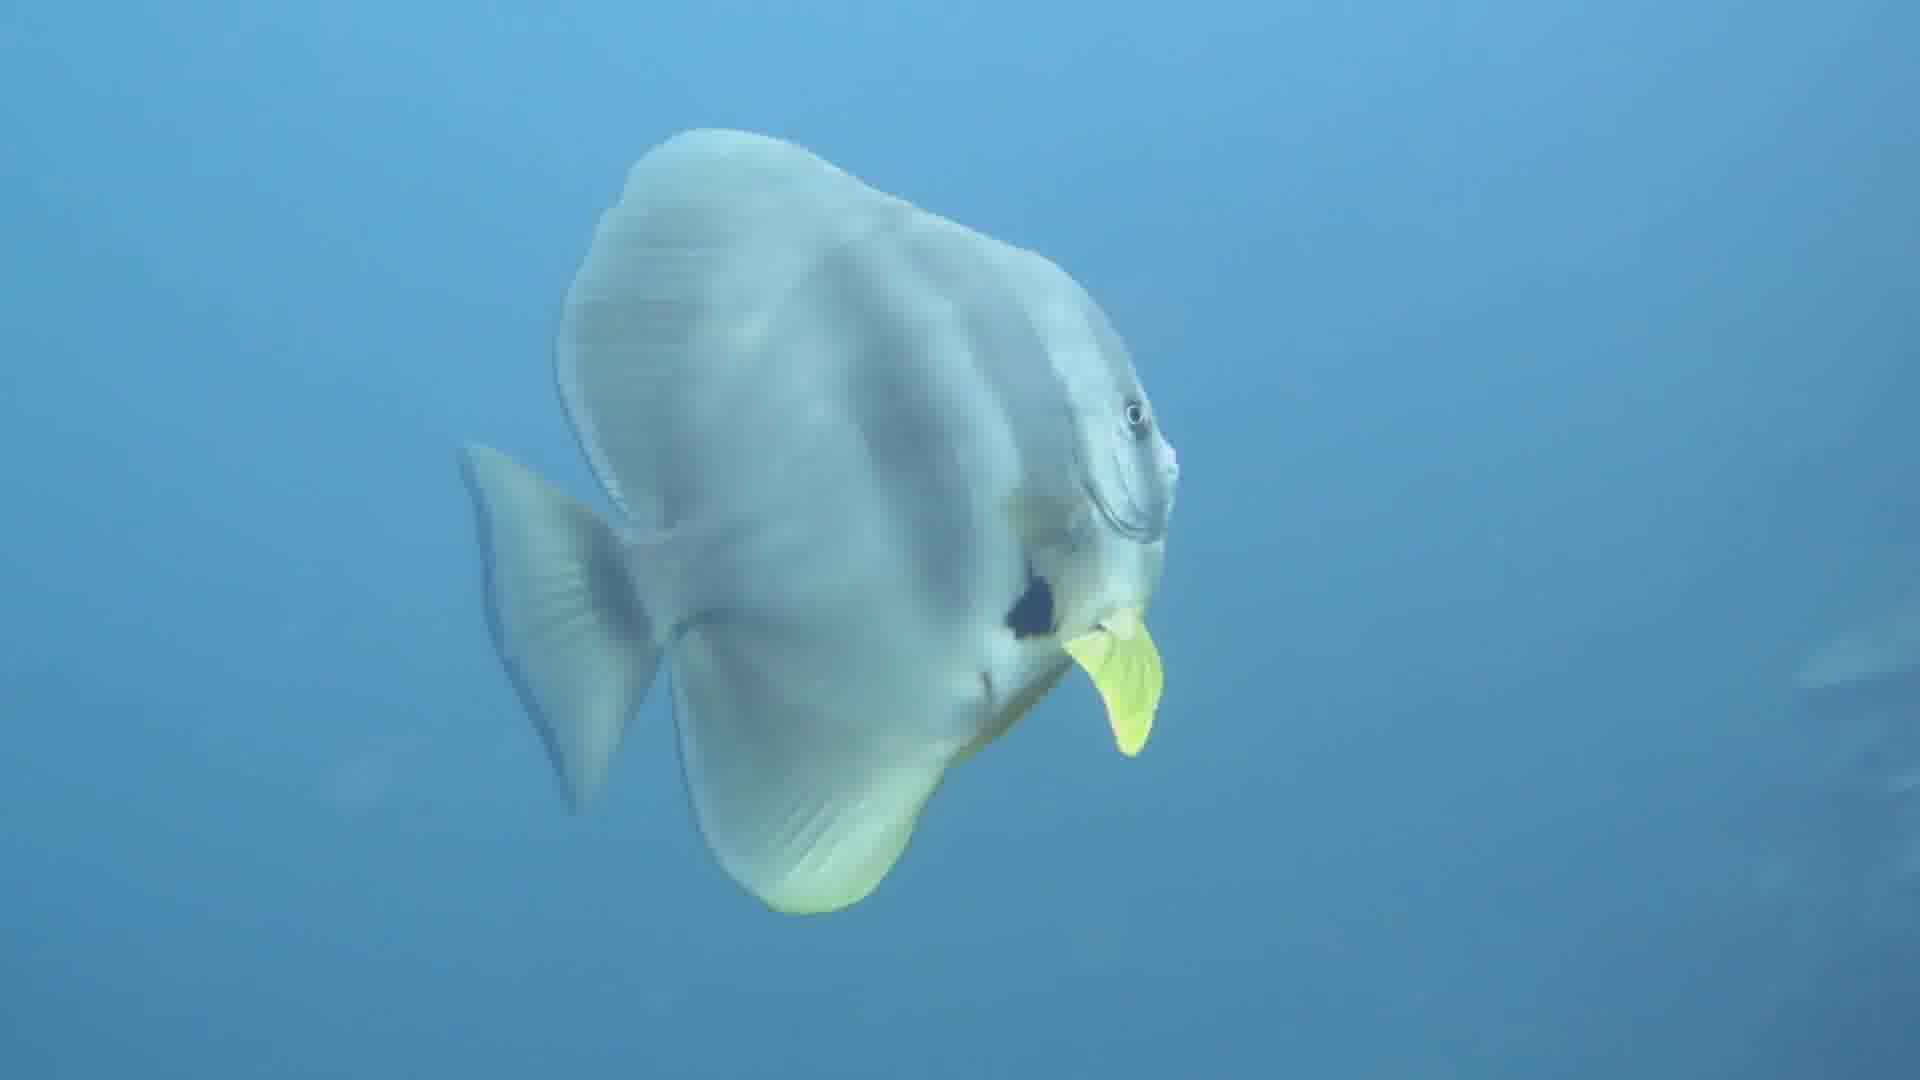Platax teira: (440, 92, 1291, 926)
